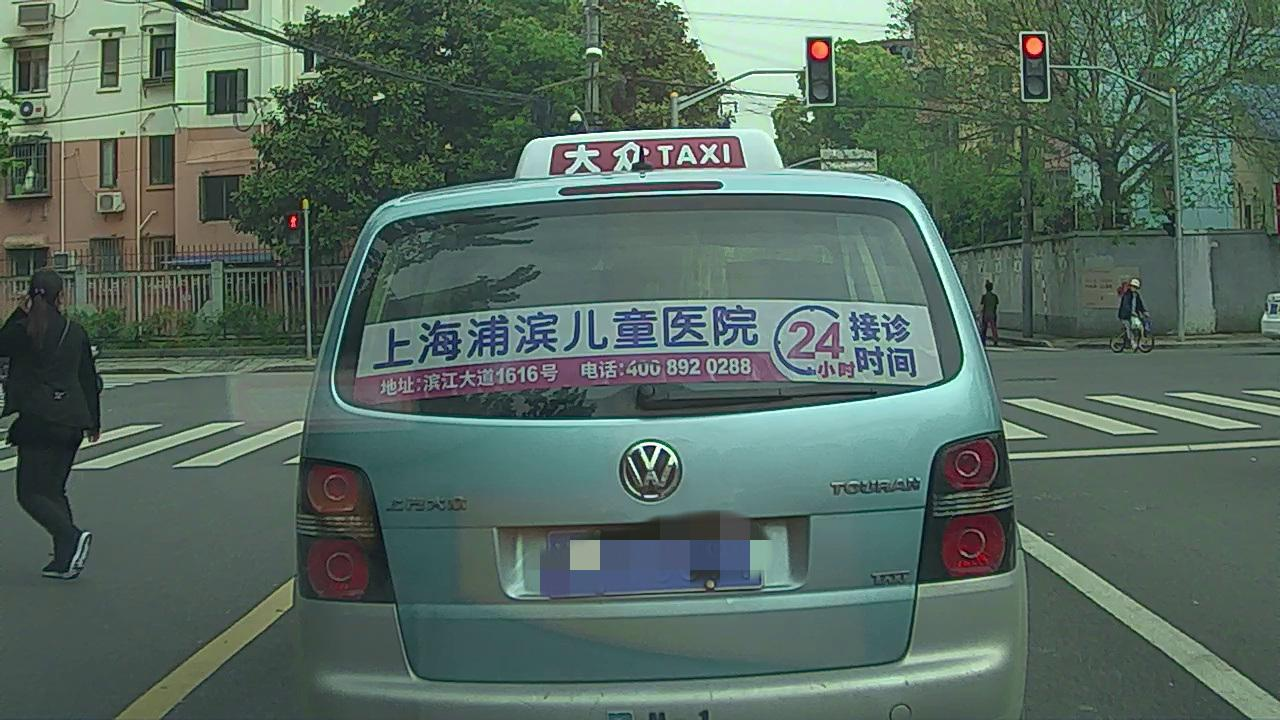traffic_light: (808, 35, 834, 107), (1022, 34, 1048, 101)
